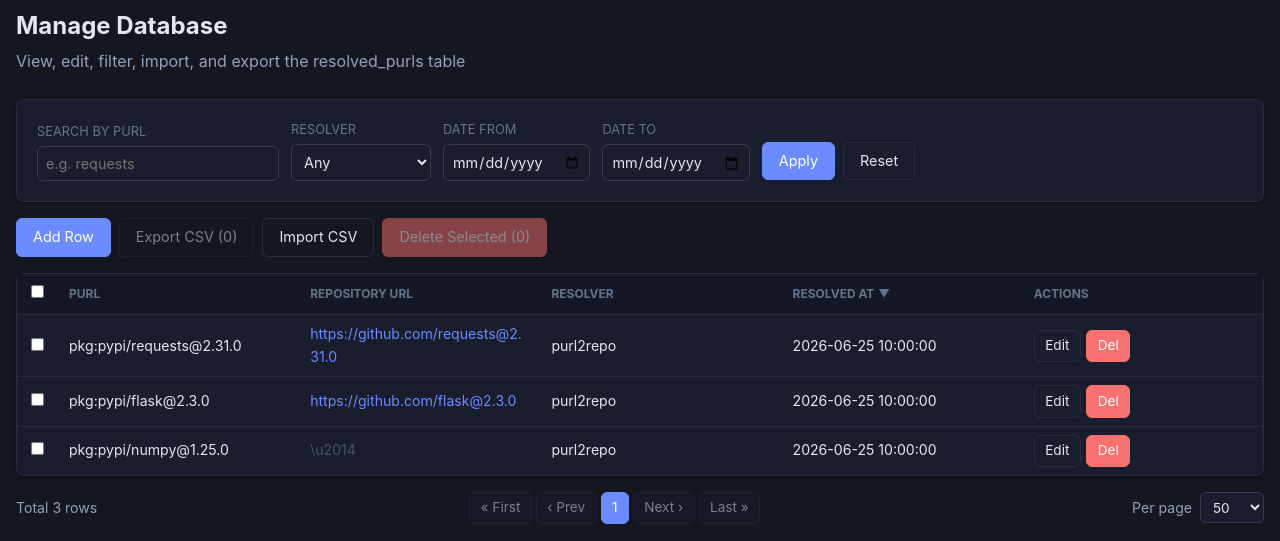
it: DatabaseAdmin.vue › resets all filters on Reset click
The image size is (1280, 541).
Step 1. Type "requests" into the field with id "search" → (158, 164), box [37,146,279,182]
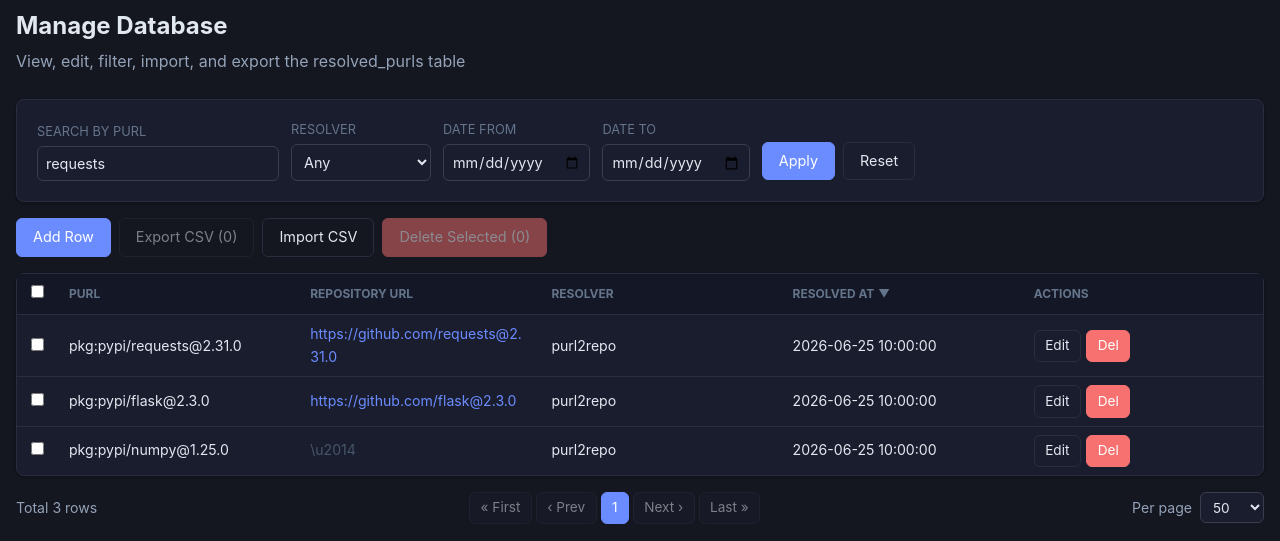
Step 2. Click the button "Reset" → (879, 161), box [843,142,915,180]
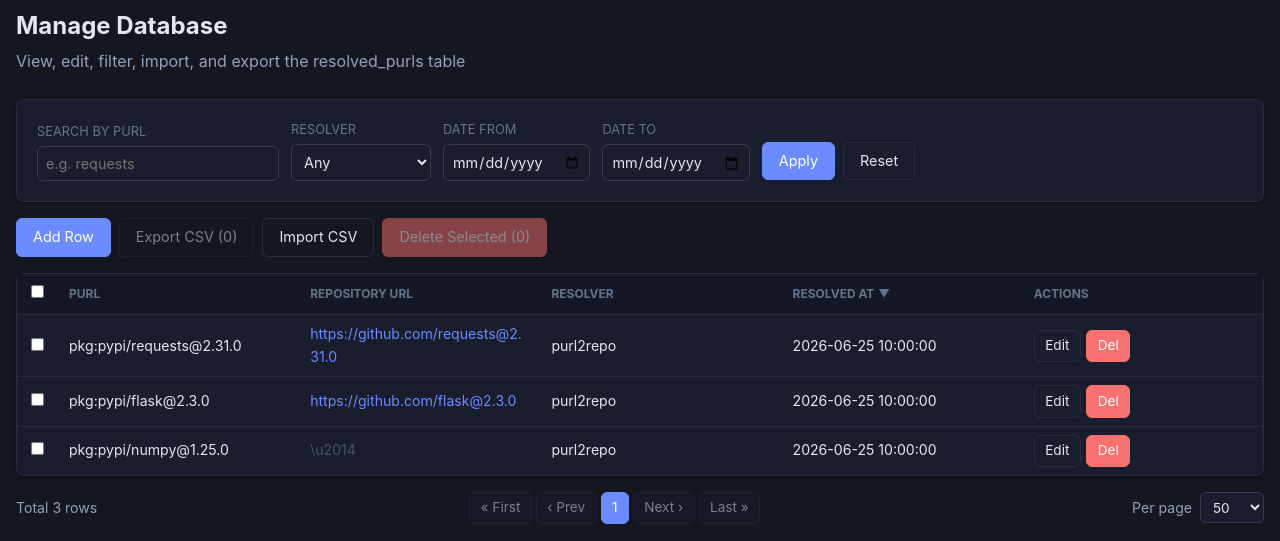
Expected: the field with id "search" is empty, [37,146,279,182]
